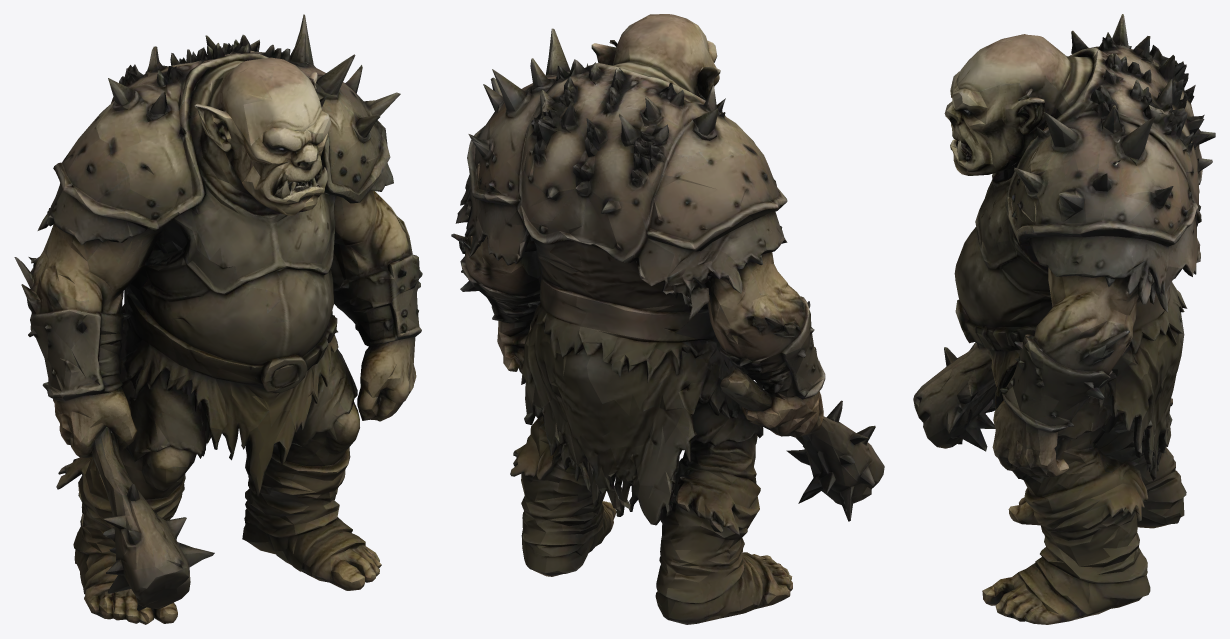
Rendered from ogre.glb.
3 views of the same model, side by side, from view 1: azimuth 30°, elevation 25°; view 2: azimuth 150°, elevation 25°; view 3: azimuth 270°, elevation 25° (orthographic).
Visible parts, largest first — view 1: output_unwrapped; view 2: output_unwrapped; view 3: output_unwrapped.
Part boxes in pixels (bbox=[...]): output_unwrapped: bbox=[14, 14, 422, 624]; output_unwrapped: bbox=[451, 14, 884, 624]; output_unwrapped: bbox=[913, 14, 1215, 624].
Size of the model in its own units: 1.34 by 1.9 by 0.9858.
Materials: 1 (1 with a texture image).
